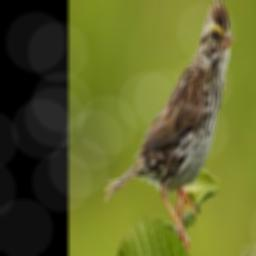Sparrow: (102, 0, 233, 254)
